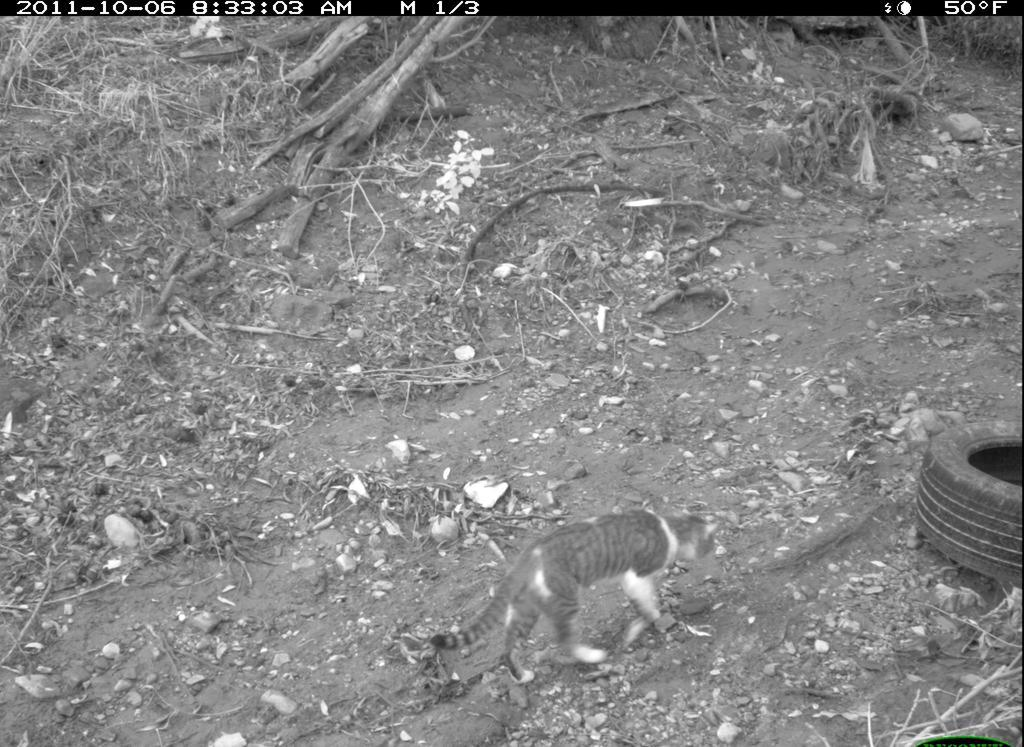cat: (425, 504, 734, 691)
